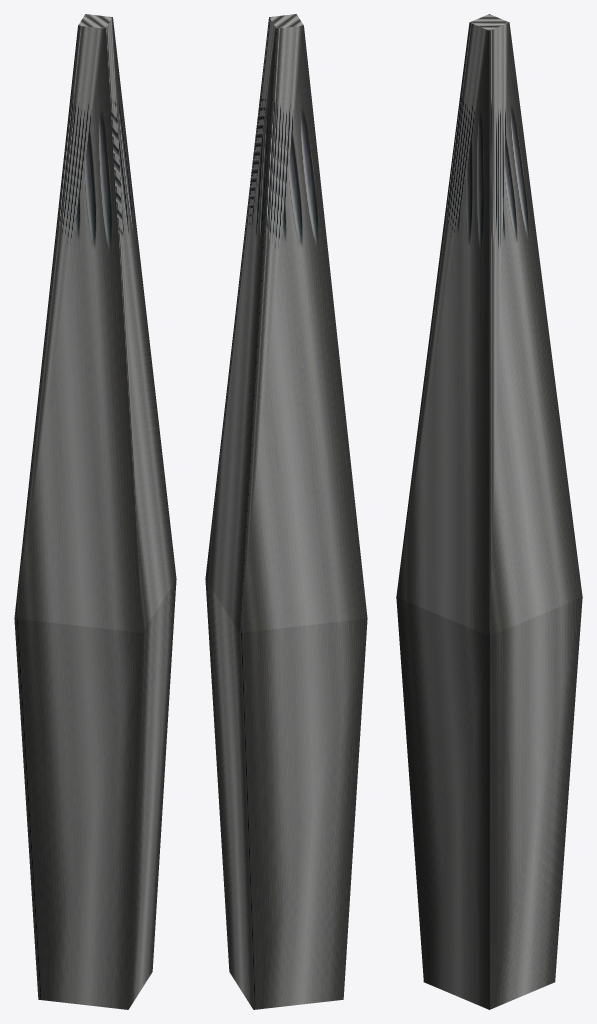
File: Ministerium_Geländerpfosten_2519.glb
3 views of the same model, side by side, from view 1: azimuth 30°, elevation 25°; view 2: azimuth 150°, elevation 25°; view 3: azimuth 270°, elevation 25° (orthographic).
Parts seen in each view (by area): view 1: pCylinderShape1; view 2: pCylinderShape1; view 3: pCylinderShape1.
Boxes of the visible parts, left/top/right/bottom form: pCylinderShape1: left=14, top=14, right=176, bottom=1009; pCylinderShape1: left=205, top=14, right=367, bottom=1009; pCylinderShape1: left=396, top=14, right=582, bottom=1009.
Bounding box in the file's own units: 0.0374 × 0.2125 × 0.0374.
Materials: 1 (1 with a texture image).
